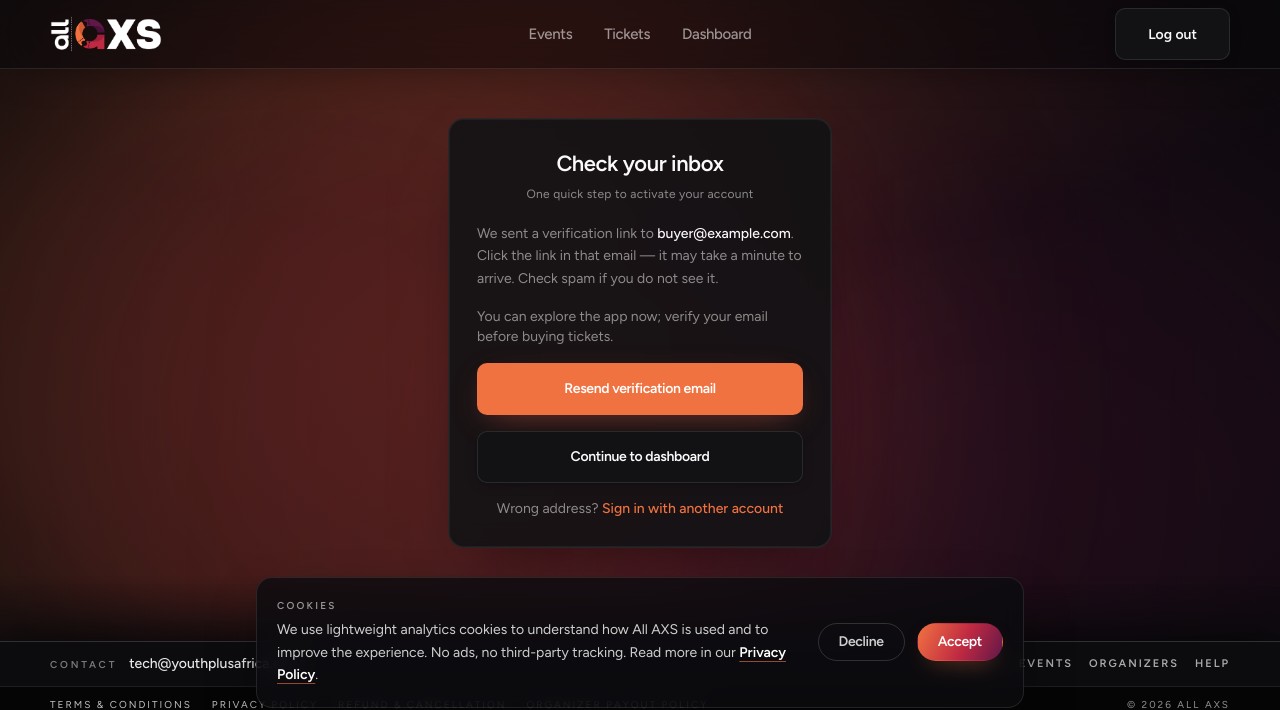
Scenario: Auth email flows (stubbed API) › Register → check email › resend on check-email posts to resend-verification with generic success
Click the button "Resend verification email" at coordinates (640, 389), box [477, 363, 803, 415]
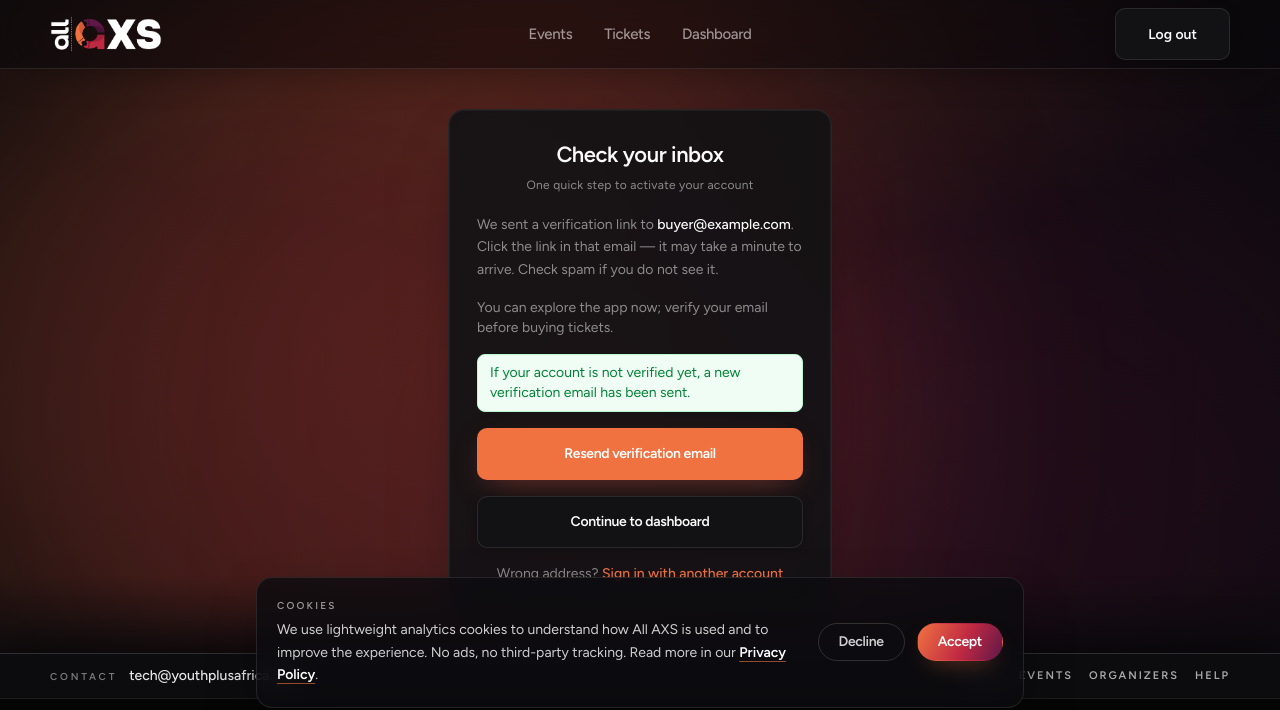
expect the text "If your account is not verified yet, a new verification email has been sent." is shown: met, box [477, 354, 803, 412]
